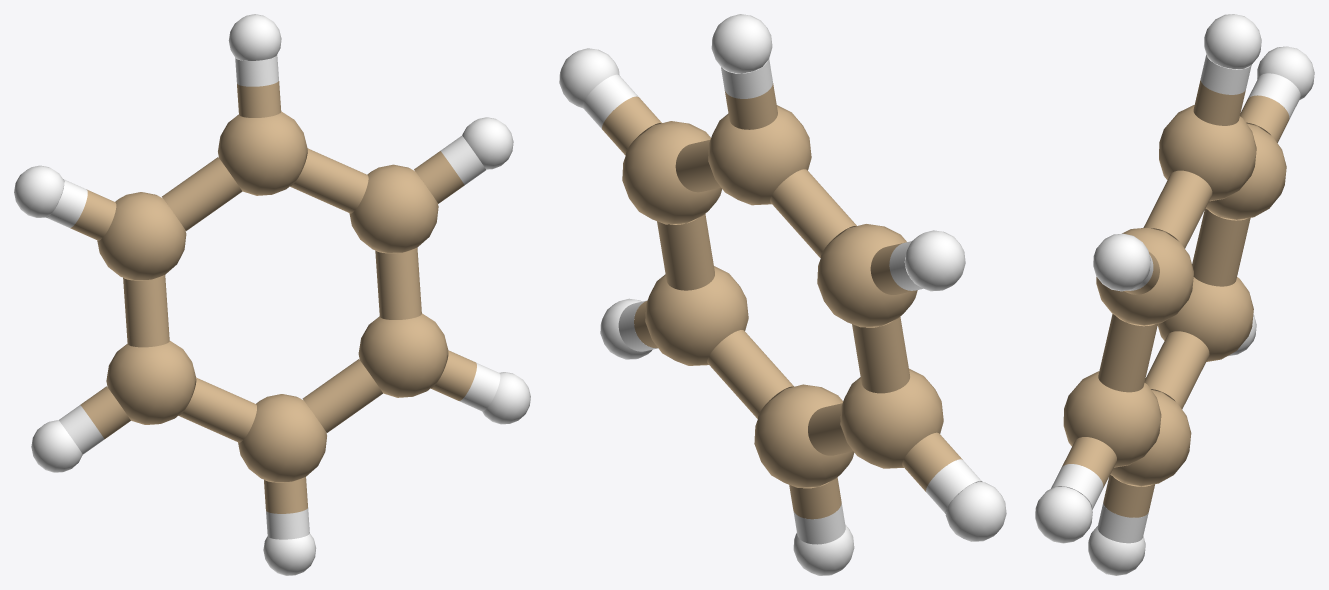
Rendered from benzene.dae.
The picture shows the model from 3 angles, left to right: view 1: azimuth 30°, elevation 25°; view 2: azimuth 150°, elevation 25°; view 3: azimuth 270°, elevation 25°; orthographic projection. The views are drawn at different scales.
Parts seen in each view (by area): view 1: subnode_2, subnode_4, subnode_0, subnode_3, subnode_5, subnode_1, subnode_12, subnode_22, subnode_13, subnode_19, subnode_25, subnode_16 (+18 smaller); view 2: subnode_1, subnode_3, subnode_5, subnode_4, subnode_2, subnode_0, subnode_12, subnode_22, subnode_19, subnode_13, subnode_6, subnode_7 (+17 smaller); view 3: subnode_3, subnode_1, subnode_2, subnode_5, subnode_0, subnode_4, subnode_19, subnode_13, subnode_16, subnode_25, subnode_8, subnode_9 (+12 smaller).
Part boxes in pixels (x1,y1,x2,y2): subnode_2: [349, 164, 438, 252]; subnode_4: [238, 394, 326, 481]; subnode_0: [97, 192, 186, 279]; subnode_3: [358, 313, 448, 397]; subnode_5: [106, 341, 196, 424]; subnode_1: [218, 111, 307, 195]; subnode_12: [162, 157, 242, 230]; subnode_22: [302, 359, 382, 432]; subnode_13: [123, 275, 169, 347]; subnode_19: [375, 248, 421, 319]; subnode_25: [178, 377, 256, 442]; subnode_16: [290, 148, 368, 213]; subnode_1: [708, 105, 811, 205]; subnode_3: [645, 266, 748, 365]; subnode_5: [840, 368, 943, 468]; subnode_4: [754, 384, 854, 487]; subnode_2: [622, 121, 721, 224]; subnode_0: [817, 224, 917, 327]; subnode_12: [770, 169, 856, 258]; subnode_22: [707, 330, 793, 418]; subnode_19: [657, 214, 714, 290]; subnode_13: [852, 317, 909, 393]; subnode_6: [905, 230, 965, 291]; subnode_7: [711, 14, 772, 73]; subnode_3: [1063, 371, 1161, 467]; subnode_1: [1159, 105, 1256, 201]; subnode_2: [1096, 227, 1193, 325]; subnode_5: [1157, 277, 1253, 361]; subnode_0: [1205, 123, 1286, 219]; subnode_4: [1110, 390, 1191, 486]; subnode_19: [1098, 314, 1157, 392]; subnode_13: [1192, 208, 1250, 286]; subnode_16: [1143, 170, 1212, 248]; subnode_25: [1144, 331, 1209, 409]; subnode_8: [1093, 233, 1150, 291]; subnode_9: [1035, 486, 1092, 543].
Bounding box in the file's own units: 4.65 × 5.35 × 2.39.
